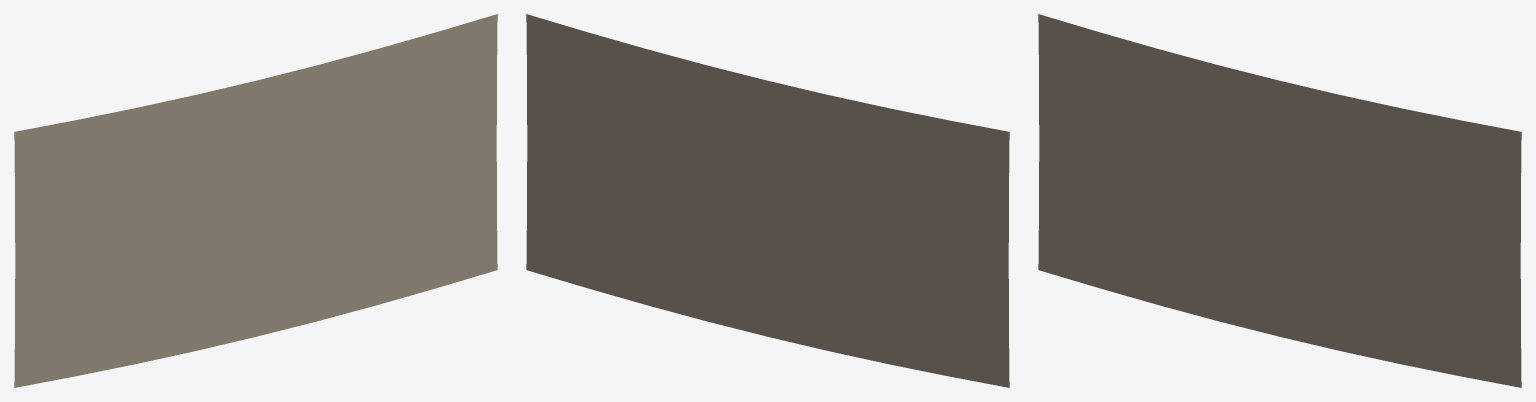
Rendered from SM_NetWall_2x4.fbx.
3 views of the same model, side by side, from view 1: azimuth 30°, elevation 25°; view 2: azimuth 150°, elevation 25°; view 3: azimuth 330°, elevation 25° (orthographic).
Visible parts, largest first — view 1: SM_Net_2x4; view 2: SM_Net_2x4; view 3: SM_Net_2x4.
Boxes of the visible parts, x1,y1,x2,y2 form: SM_Net_2x4: (14,14,497,387); SM_Net_2x4: (526,14,1009,387); SM_Net_2x4: (1038,14,1521,387).
Size of the model in its own units: 395 by 206 by 7.15e-07.
